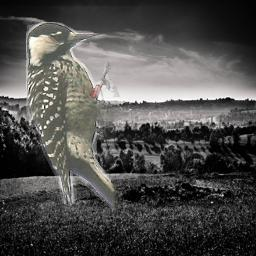Woodpecker: (26, 22, 123, 211)
